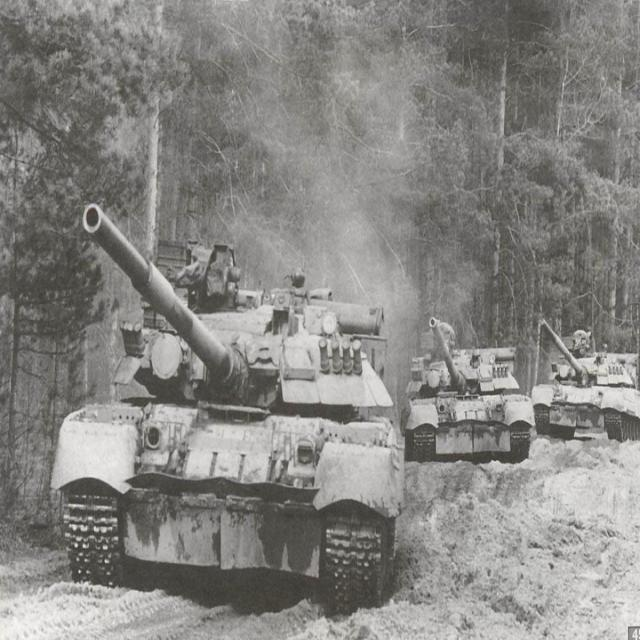MIL_MBT: (35, 157, 411, 624), (401, 304, 539, 504), (535, 313, 639, 469)
